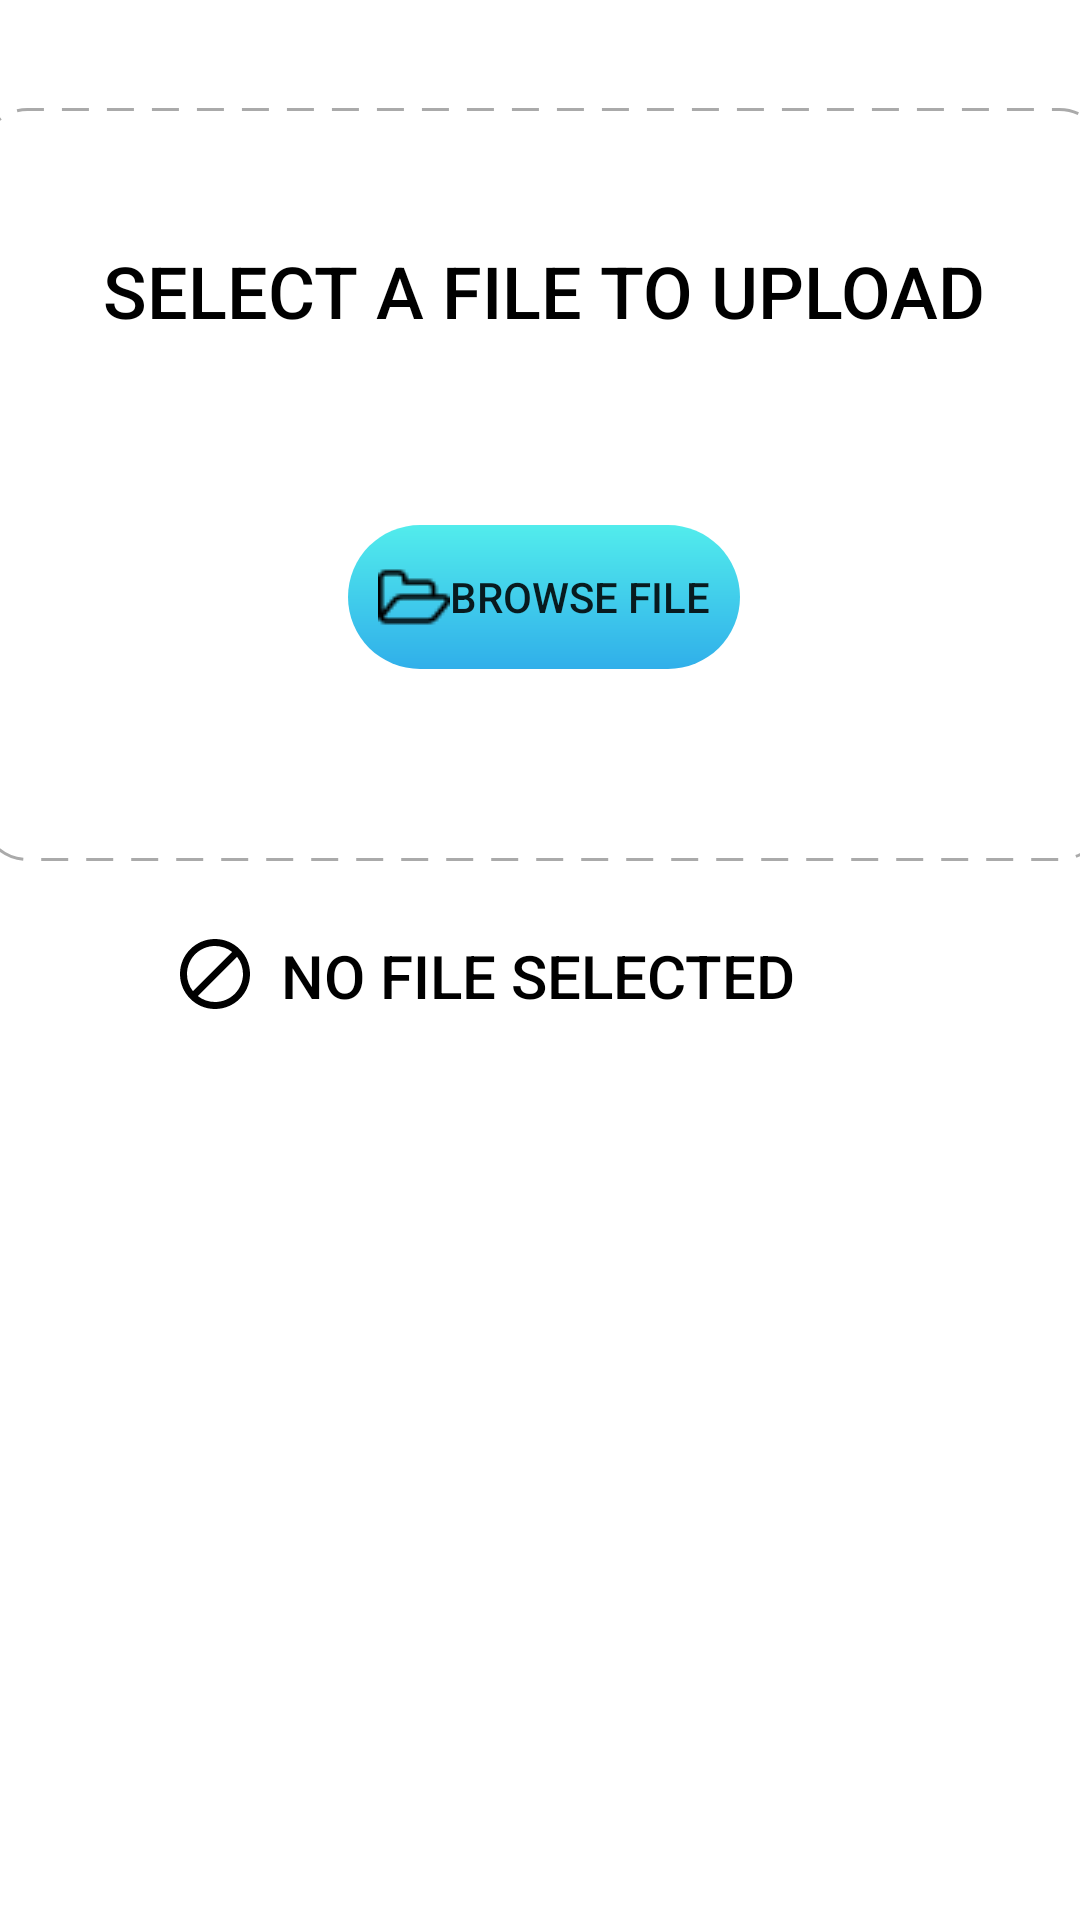

Screen size 1080px×1920px. Icon name, then its center in pixels as point (x, y):
block: point (215, 974)
